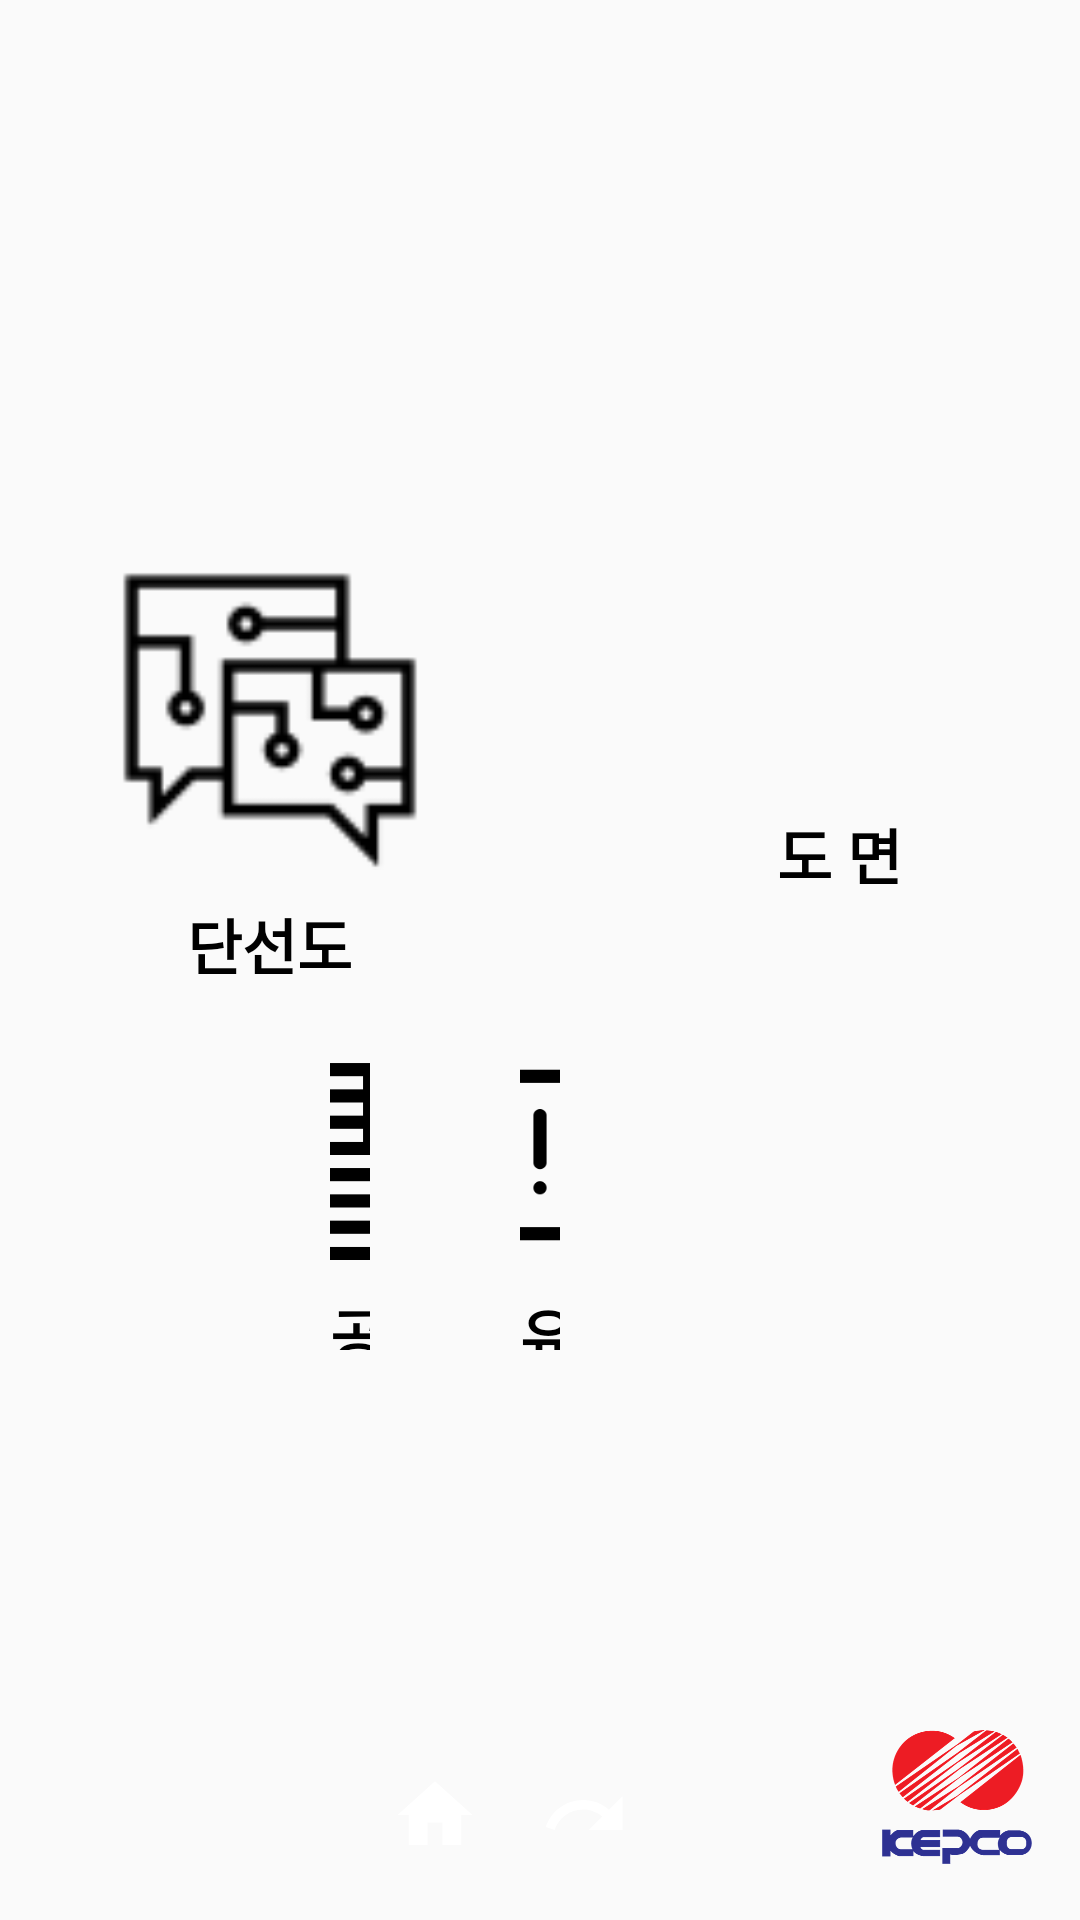

Named icons in this screenshot (1080x1920) and their centers, (x,y):
staff menu circuit: (270,720)
